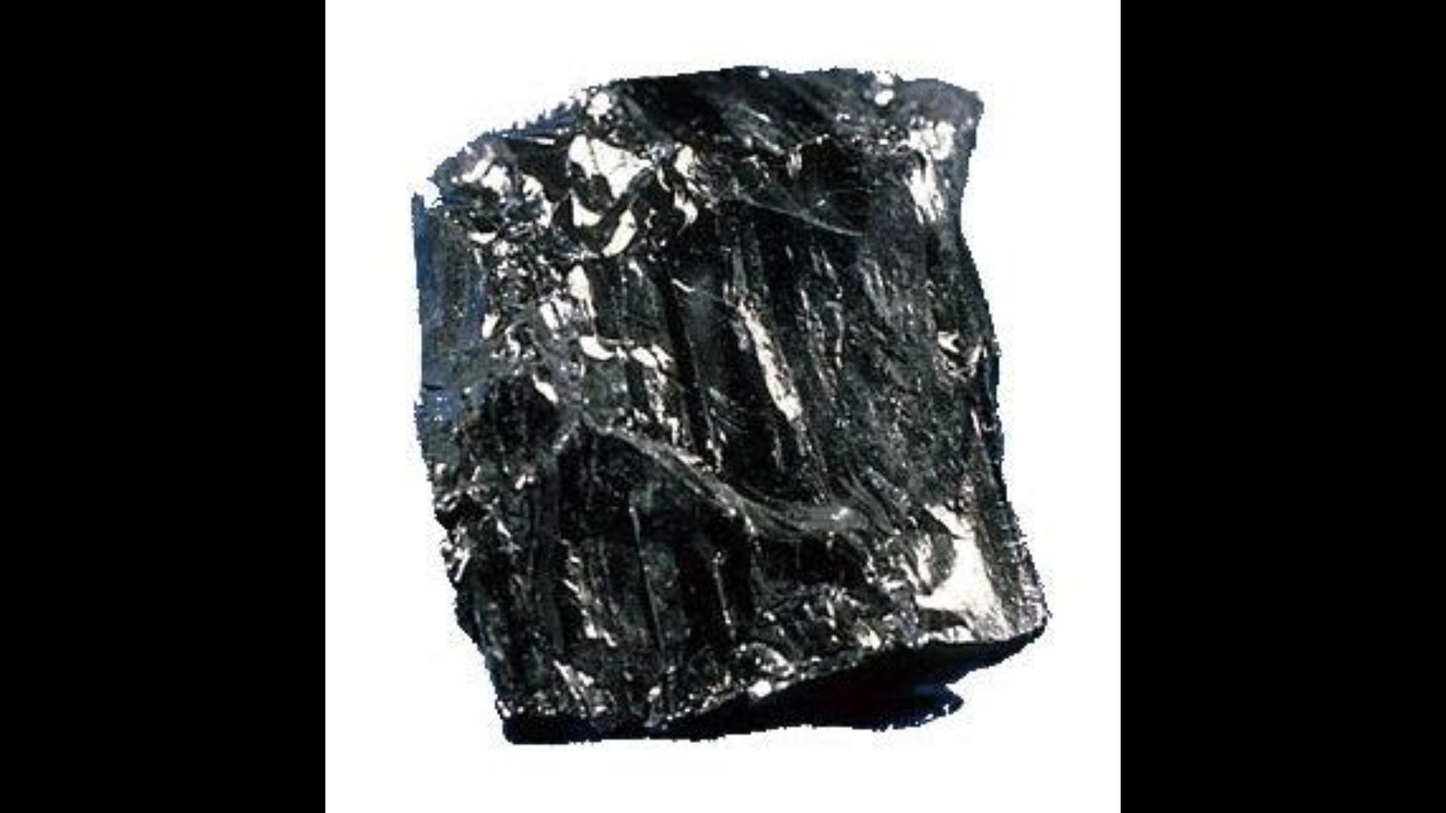rock: (414, 68, 1045, 740)
